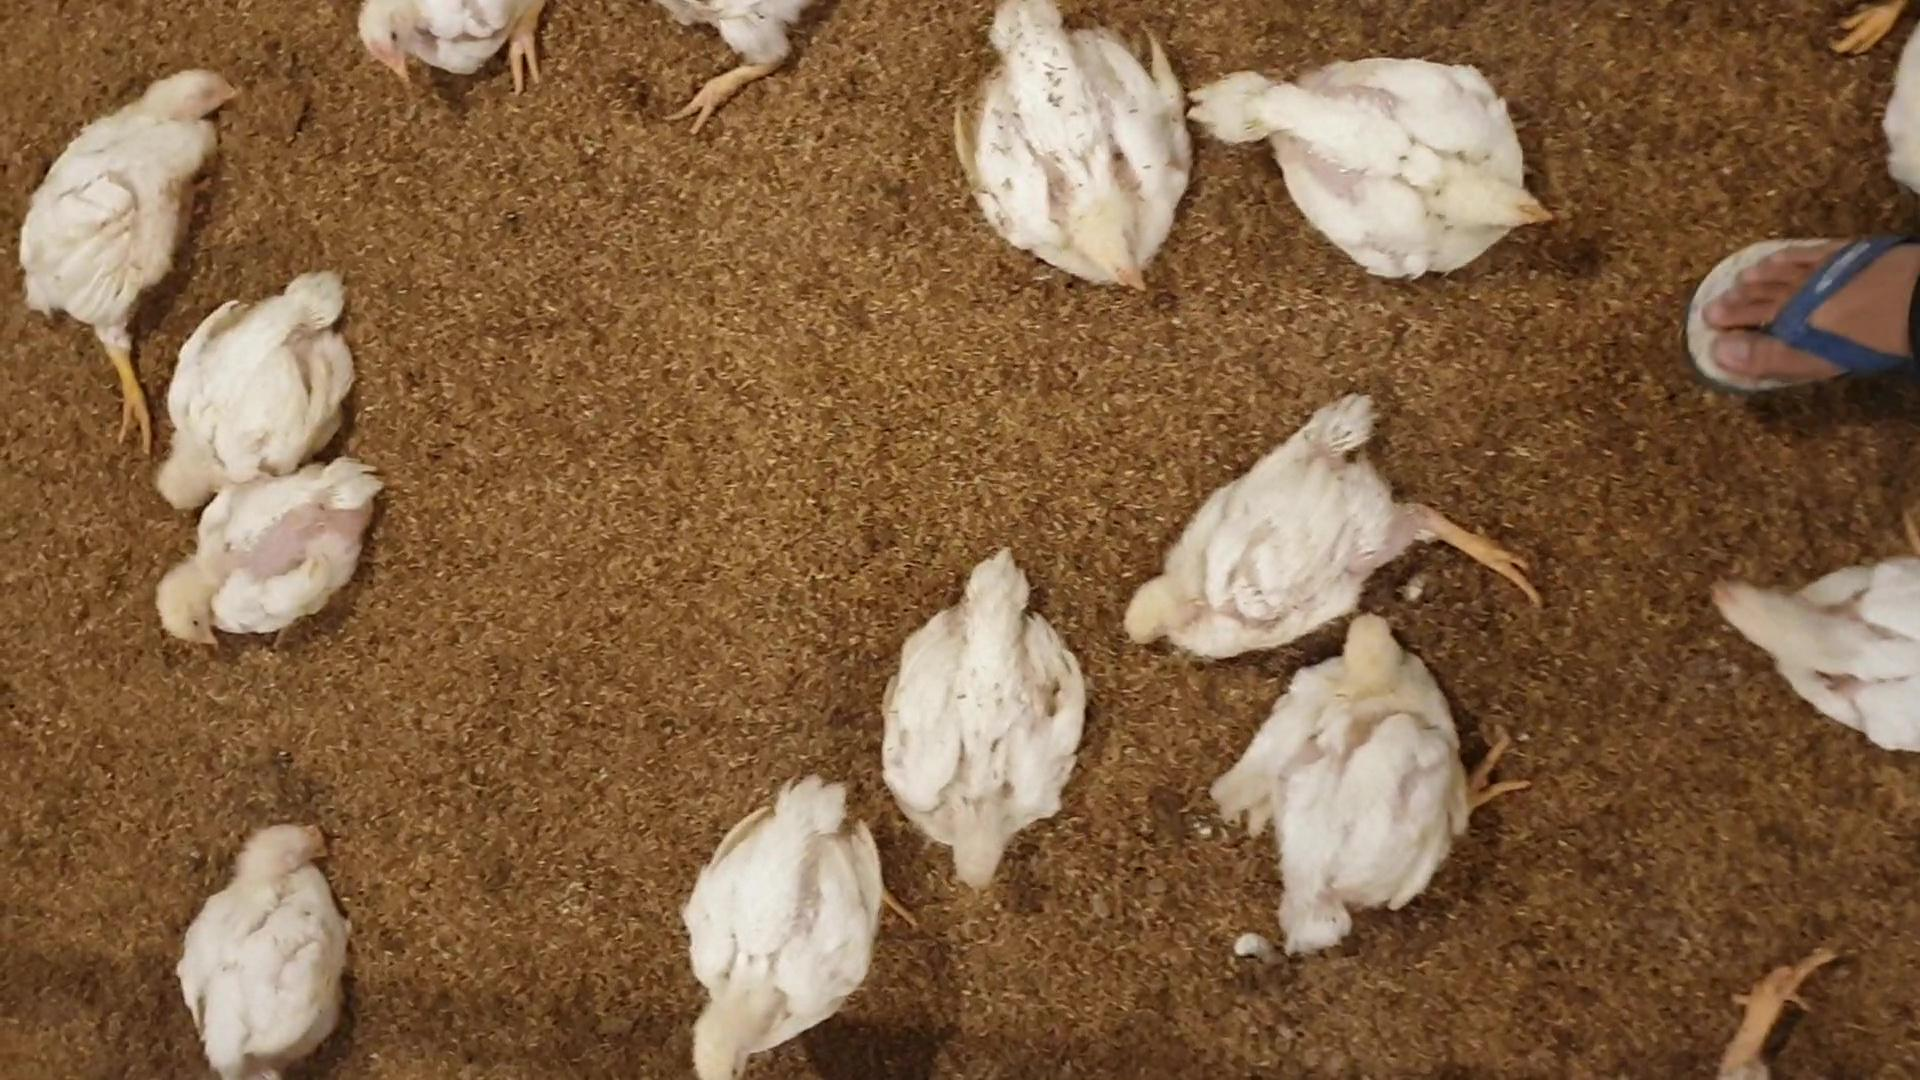Pollos: (926, 0, 1195, 290), (1130, 400, 1396, 675), (675, 769, 895, 1080), (886, 531, 1091, 860), (1276, 607, 1464, 961), (1261, 47, 1553, 262), (22, 67, 240, 323), (154, 272, 353, 516), (160, 458, 396, 649), (185, 824, 356, 1080), (1706, 551, 1920, 729)
